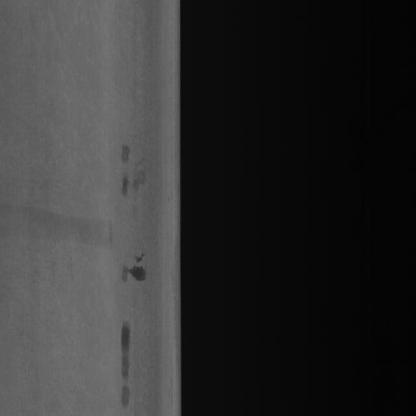oil_spot: (117, 142, 149, 195), (116, 312, 132, 412), (115, 255, 151, 296)
